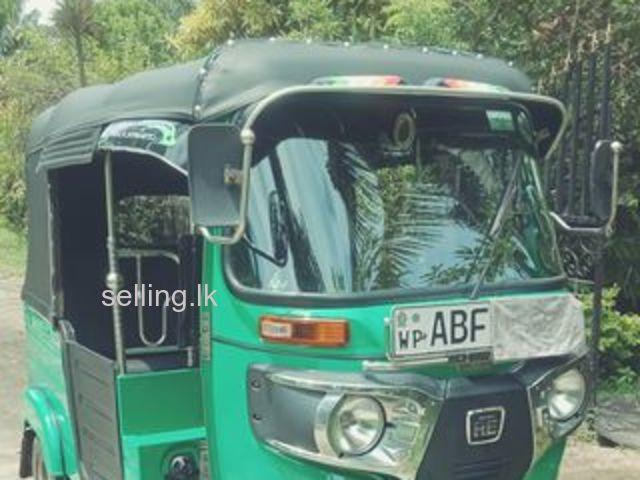threewheel: (19, 40, 623, 480)
